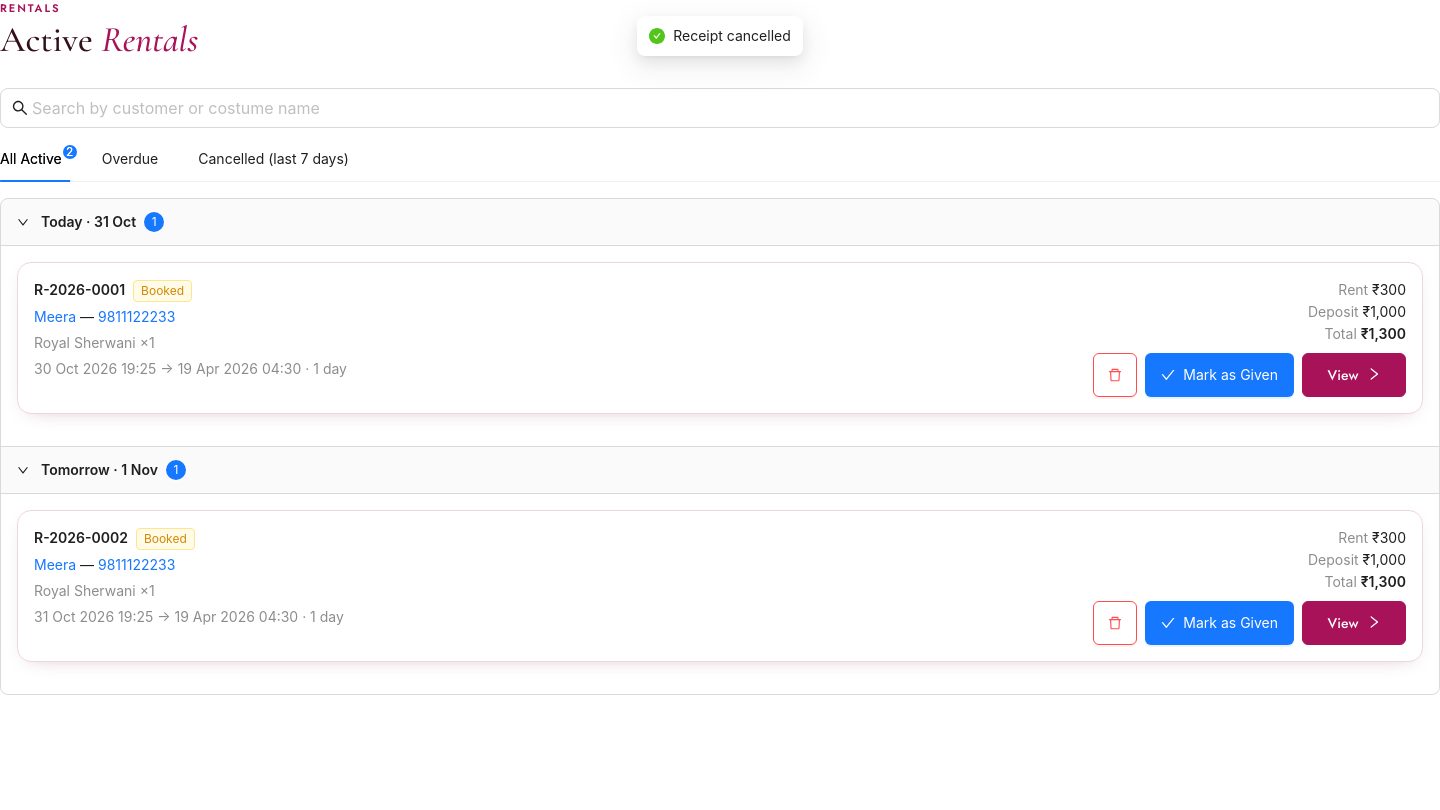
Test case: ReceiptsPage given / booked state on the Active Rentals card › clicking Mark as Given on a card opens a confirm dialog for that receipt
Click the button "Mark as Given" in the row of "31 Oct 2026 19:25" at (1220, 623), box top-left (1145, 601), bottom-right (1294, 645)
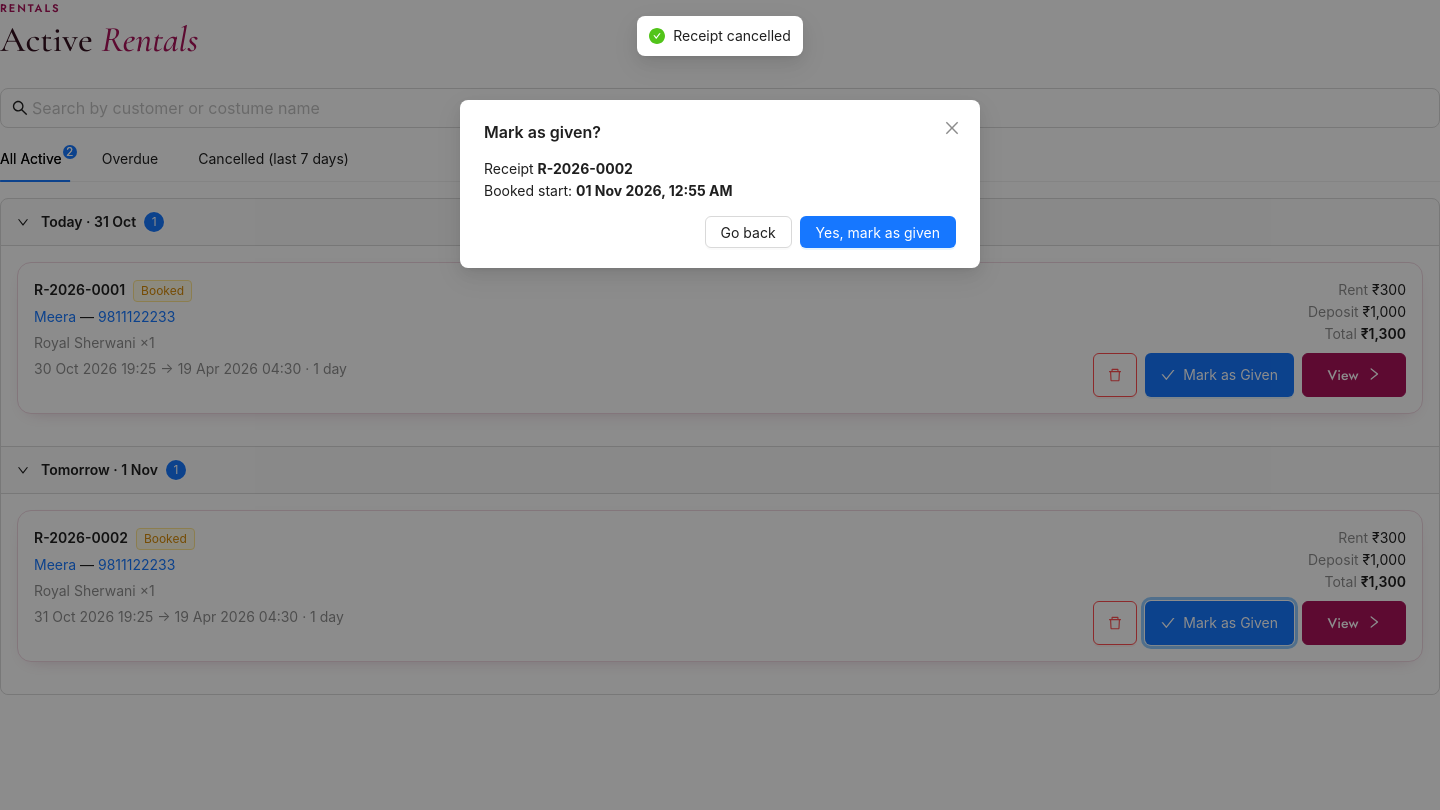
expect the text "R-2026-0002" is shown: met, box top-left (538, 160), bottom-right (633, 177)
